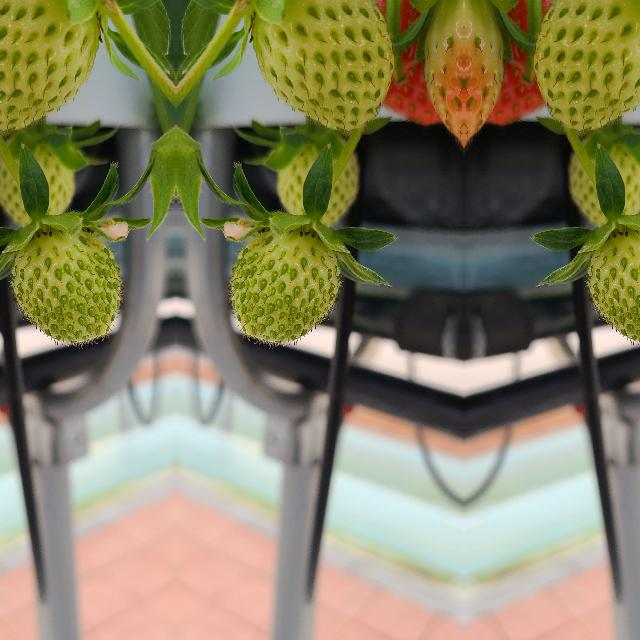Health_25: (251, 0, 391, 130), (535, 0, 640, 130), (0, 0, 99, 130), (229, 226, 339, 342), (11, 226, 121, 342), (276, 136, 362, 228), (564, 136, 640, 227), (0, 136, 74, 227), (587, 226, 640, 342)
